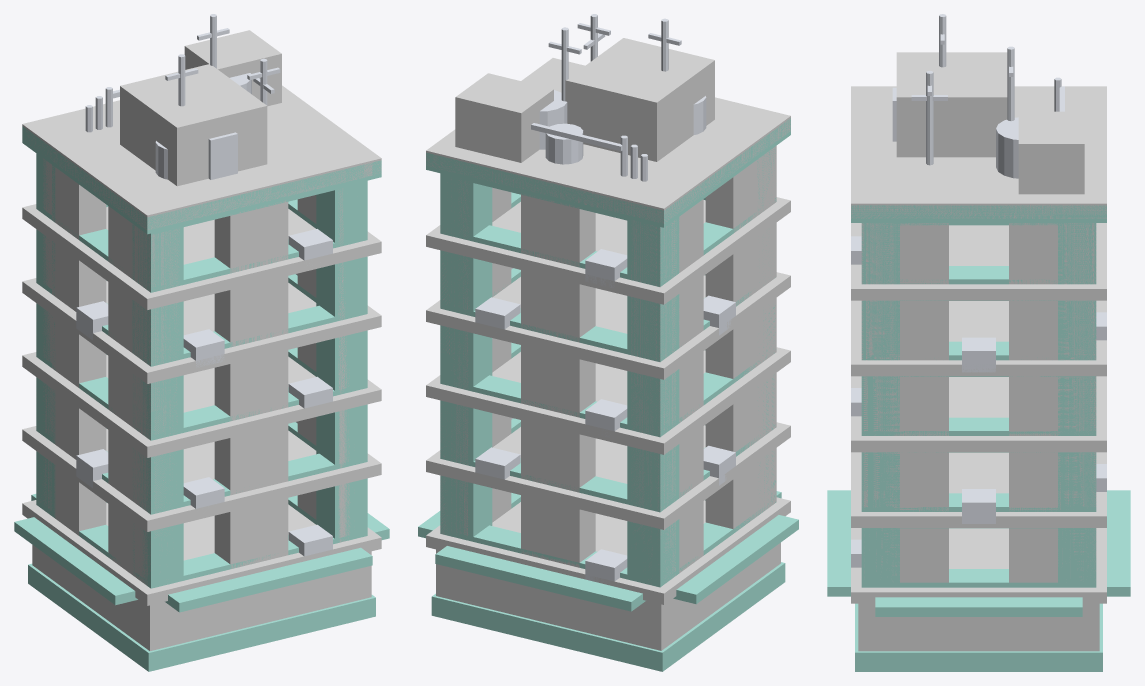
File: hk-walkup.glb
The picture shows the model from 3 angles, left to right: view 1: azimuth 30°, elevation 25°; view 2: azimuth 150°, elevation 25°; view 3: azimuth 270°, elevation 25°; orthographic projection. The views are drawn at different scales.
Parts seen in each view (by area): view 1: walkup pier.001, walkup roof, walkup corner.001, walkup corner.003, walkup pier.009, walkup lift overrun, walkup shopfront, walkup pier.008, walkup balcony 5, walkup balcony 3, walkup balcony 2, walkup balcony 4 (+26 smaller); view 2: walkup pier.004, walkup pier.008, walkup roof, walkup corner, walkup corner.002, walkup lift overrun, walkup shopfront, walkup balcony 3, walkup balcony 5, walkup balcony 2, walkup balcony 4, walkup plinth (+28 smaller); view 3: walkup roof, walkup pier.006, walkup pier.007, walkup corner.002, walkup corner.003, walkup lift overrun, walkup shopfront, walkup balcony 5, walkup balcony 3, walkup balcony 4, walkup balcony 2, walkup balcony 1 (+18 smaller).
Boxes of the visible parts, x1,y1,x2,y2 form: walkup pier.001: (214,200,288,568); walkup roof: (22,85,381,229); walkup corner.001: (132,224,183,588); walkup corner.003: (316,181,367,542); walkup pier.009: (36,166,106,535); walkup lift overrun: (120,64,267,186); walkup shopfront: (32,545,371,650); walkup pier.008: (108,206,177,582); walkup balcony 5: (22,204,381,310); walkup balcony 3: (22,352,381,457); walkup balcony 2: (22,426,381,531); walkup balcony 4: (22,278,381,383); walkup pier.004: (521,193,595,567); walkup pier.008: (705,147,776,530); walkup roof: (426,58,790,223); walkup corner: (627,217,679,587); walkup corner.002: (440,173,492,540); walkup lift overrun: (565,38,714,161); walkup shopfront: (436,542,780,650); walkup balcony 3: (426,347,790,454); walkup balcony 5: (426,197,790,304); walkup balcony 2: (426,422,790,529); walkup balcony 4: (426,272,790,379); walkup plinth: (431,562,785,671); walkup roof: (851,86,1106,218); walkup pier.006: (1009,223,1096,582); walkup pier.007: (861,223,948,582); walkup corner.002: (1058,223,1096,582); walkup corner.003: (861,223,899,582); walkup lift overrun: (896,52,1007,157); walkup shopfront: (858,603,1099,651); walkup balcony 5: (851,223,1106,300); walkup balcony 3: (851,376,1106,452); walkup balcony 4: (851,300,1106,376); walkup balcony 2: (851,452,1106,527); walkup balcony 1: (851,528,1106,603).
Size of the model in its own units: 3.04 by 6 by 2.84.
